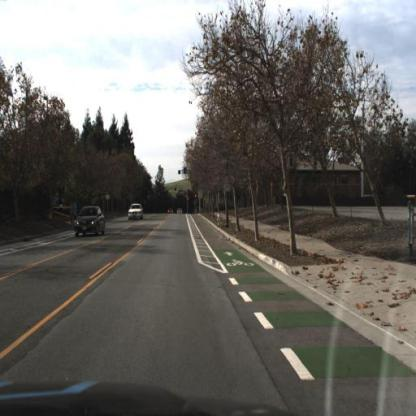biker: (70, 201, 78, 227), (72, 202, 79, 222)
car: (73, 206, 108, 237), (129, 204, 144, 223)
trafficLight: (184, 194, 188, 202)
trafficLight-Red: (194, 193, 198, 203)
trafficLight-RedLeft: (173, 183, 178, 194)
